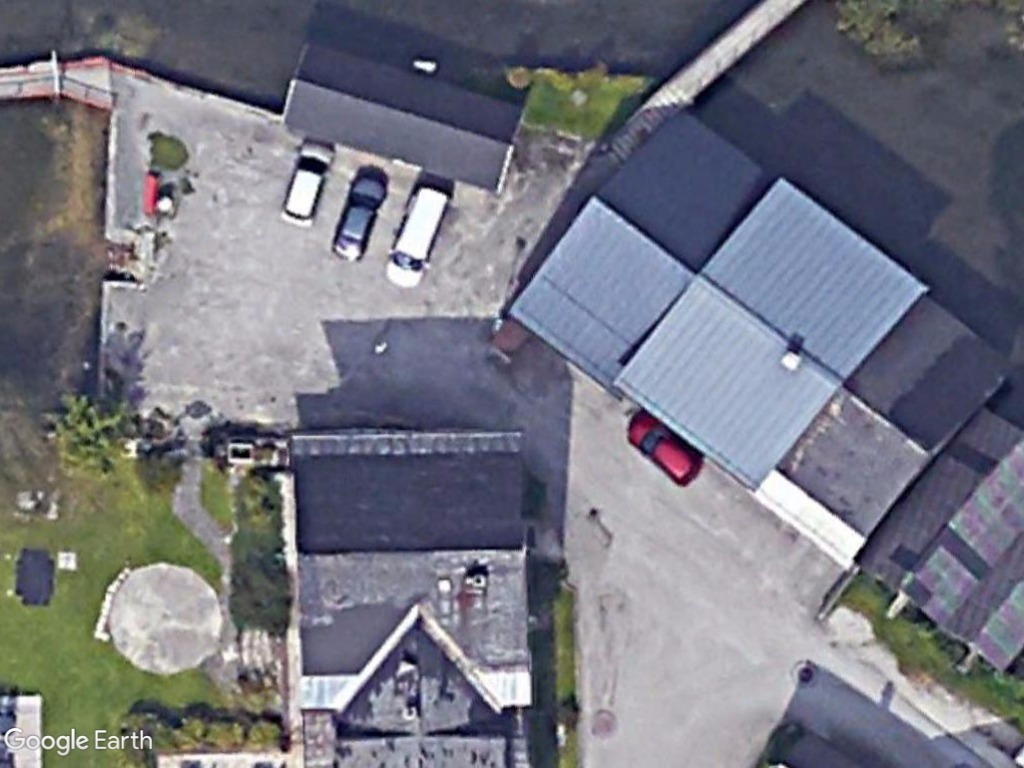car: (619, 405, 709, 492), (327, 170, 391, 267), (279, 134, 337, 236)
van: (379, 178, 454, 294)
